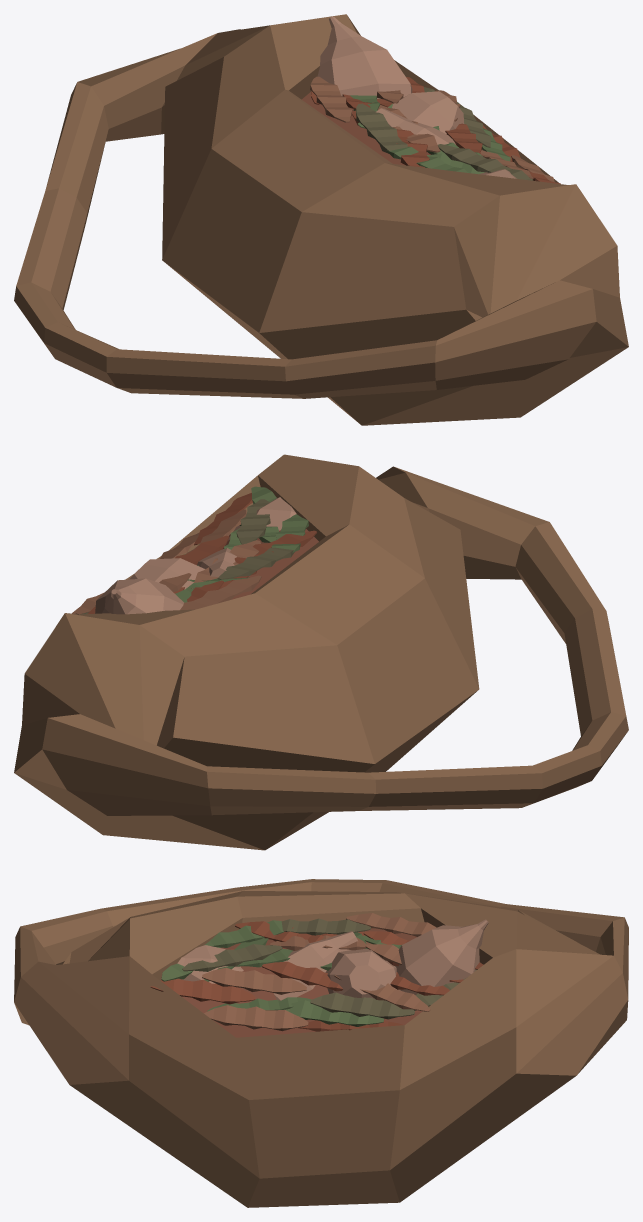
The model's file is pouch.fbx.
The picture shows the model from 3 angles, top to bottom: view 1: azimuth 30°, elevation 25°; view 2: azimuth 150°, elevation 25°; view 3: azimuth 270°, elevation 25°; orthographic projection. The views are drawn at different scales.
Visible parts, largest first — view 1: pouch, nutsCollection, roots, nutsGreenDark, nutsBackdrop, root; view 2: pouch, nutsCollection, roots, nutsGreenDark, nutsBackdrop, root, nutsBrown; view 3: pouch, nutsCollection, roots, nutsBackdrop, root, nutsGreenDark, nutsBrown.
Part boxes in pixels (x1,y1,x2,y2): pouch: (14,14,628,425); nutsCollection: (310,76,560,183); roots: (317,16,516,178); nutsGreenDark: (437,144,533,180); nutsBackdrop: (302,92,430,165); root: (376,108,455,144); pouch: (14,454,628,850); nutsCollection: (72,486,316,614); roots: (95,497,296,614); nutsGreenDark: (236,499,270,544); nutsBackdrop: (223,529,318,599); root: (197,548,236,577); nutsBrown: (191,540,260,588); pouch: (14,879,628,1207); nutsCollection: (150,913,483,1031); roots: (177,919,488,998); nutsBackdrop: (182,928,422,1037); root: (269,931,357,1000); nutsGreenDark: (182,944,282,971); nutsBrown: (270,935,372,950).
Size of the model in its own units: 228 by 134 by 279.
